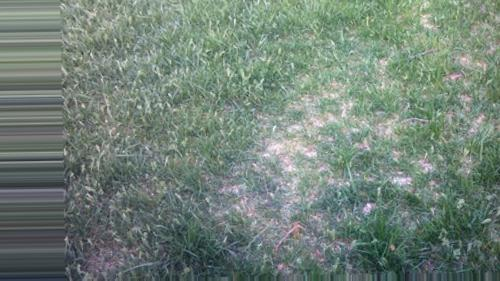patch: (249, 186, 303, 230), (269, 124, 316, 164)
